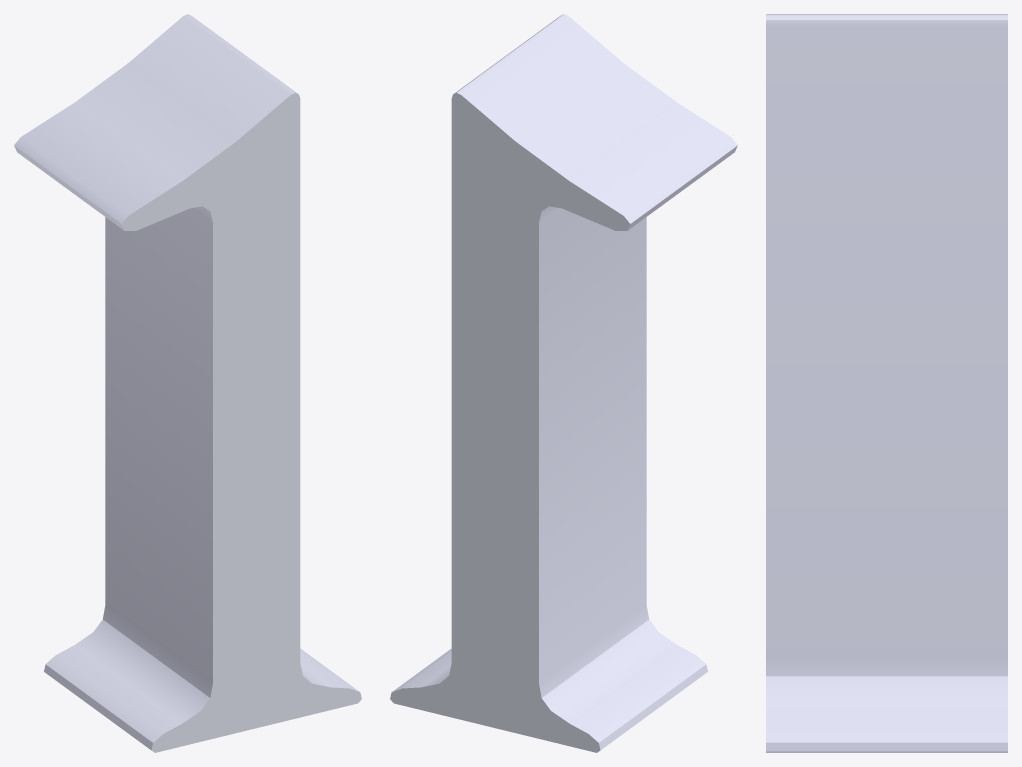
3 renders of one model, left to right at view 1: azimuth 30°, elevation 25°; view 2: azimuth 150°, elevation 25°; view 3: azimuth 270°, elevation 25°, orthographic. The views are drawn at different scales.
Visible parts, largest first — view 1: 1_Soul_Grey; view 2: 1_Soul_Grey; view 3: 1_Soul_Grey.
Boxes of the visible parts, box(x1,y1,x2,y2) form: 1_Soul_Grey: box(14, 14, 361, 752); 1_Soul_Grey: box(390, 14, 737, 752); 1_Soul_Grey: box(766, 14, 1007, 752).
Size of what is drawn, in the model's own units: 0.058 by 0.1445 by 0.045.
Materials: 2 (2 with a texture image).
